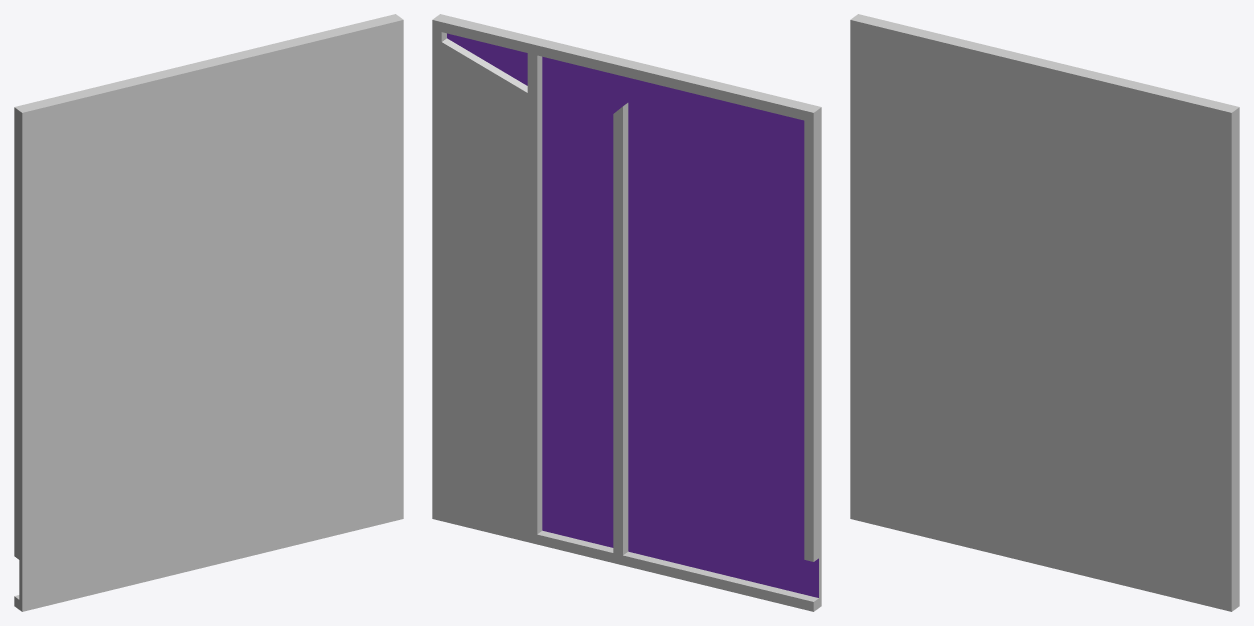
Rendered from CasePrototype.fbx.
3 renders of one model, left to right at view 1: azimuth 30°, elevation 25°; view 2: azimuth 150°, elevation 25°; view 3: azimuth 330°, elevation 25°, orthographic.
Visible parts, largest first — view 1: MarbleCourse, MarbleStart, MarbleElevator; view 2: MarbleCourse, MarbleStart, MarbleElevator; view 3: MarbleCourse, MarbleStart, MarbleElevator.
Boxes of the visible parts, <box> form: MarbleCourse: <box>14,38,308,611</box>; MarbleStart: <box>300,14,403,541</box>; MarbleElevator: <box>206,37,307,565</box>; MarbleCourse: <box>527,37,821,611</box>; MarbleStart: <box>432,14,535,541</box>; MarbleElevator: <box>527,42,629,555</box>; MarbleCourse: <box>850,14,1143,588</box>; MarbleStart: <box>1136,84,1239,611</box>; MarbleElevator: <box>1041,61,1143,579</box>.
Size of the model in its own units: 2 by 2.5 by 0.0725.
